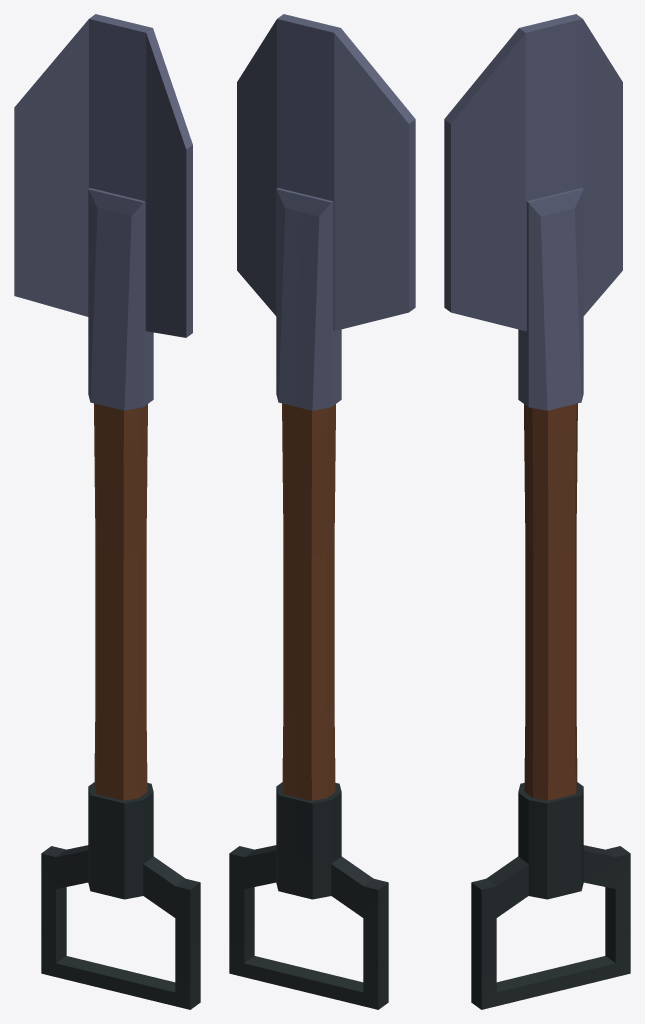
The model's file is shovel_iron.glb.
3 renders of one model, left to right at view 1: azimuth 30°, elevation 25°; view 2: azimuth 210°, elevation 25°; view 3: azimuth 270°, elevation 25°, orthographic.
Parts seen in each view (by area): view 1: SpadeV12; view 2: SpadeV12; view 3: SpadeV12.
Part boxes in pixels (x1=…): SpadeV12: x1=14, y1=14, x2=200, y2=1009; SpadeV12: x1=229, y1=14, x2=415, y2=1009; SpadeV12: x1=444, y1=14, x2=630, y2=1009.
Bounding box in the file's own units: 0.1385 × 1.07 × 0.1878.
2 materials, 2 textured.
